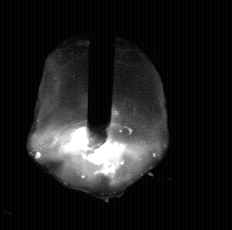arame: (88, 0, 112, 149)
poca: (28, 0, 169, 230)
